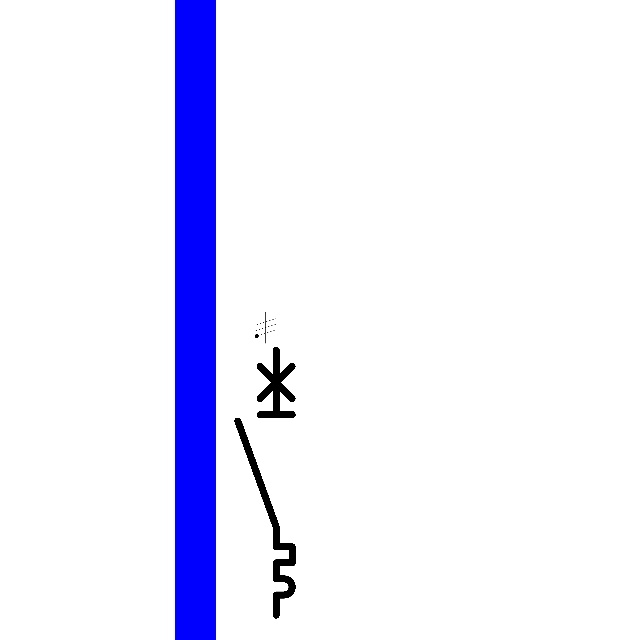interruptor_termomagnetico: (231, 343, 299, 622)
